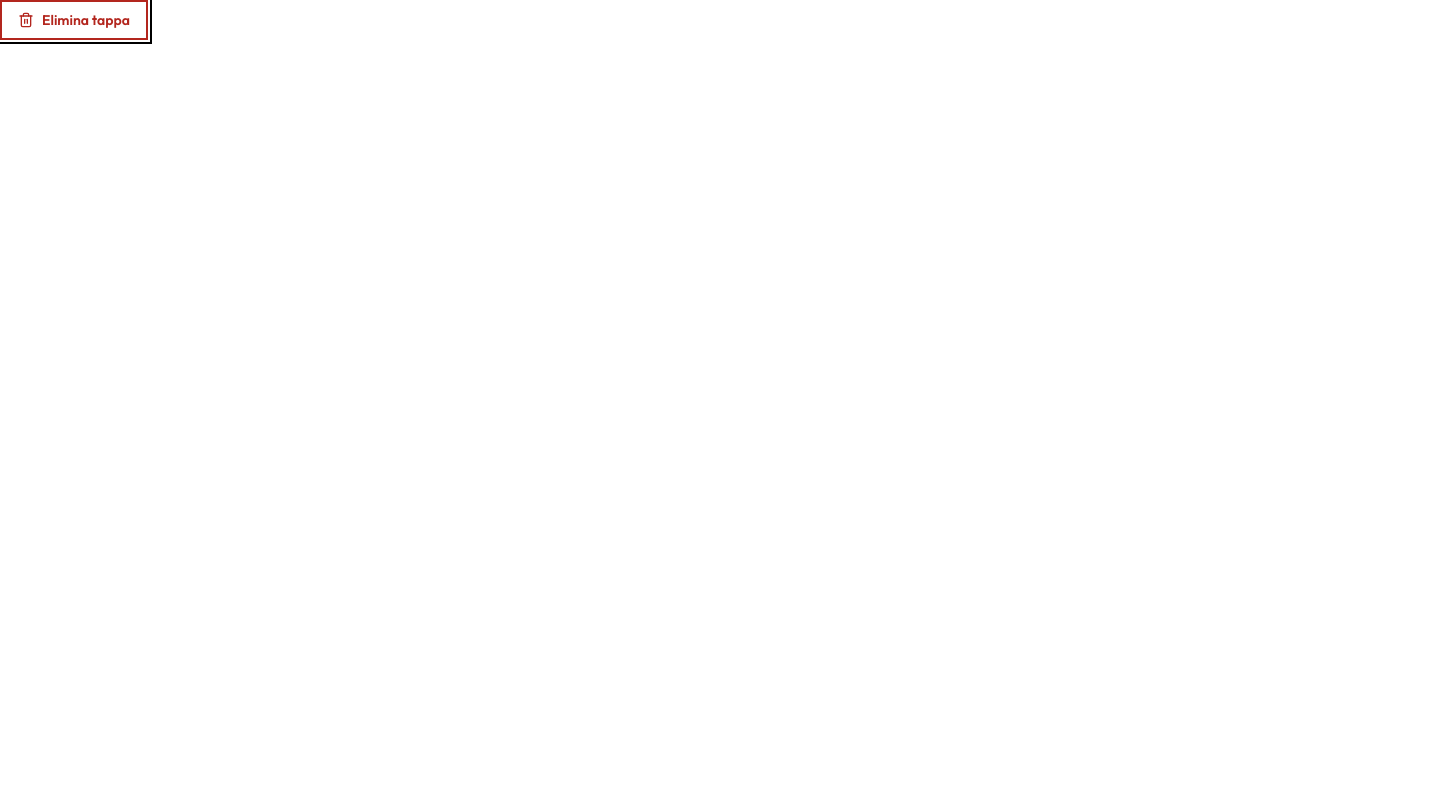
EliminaTappa › errore di rete: la parola resta e l'errore è annunciato
Press Enter
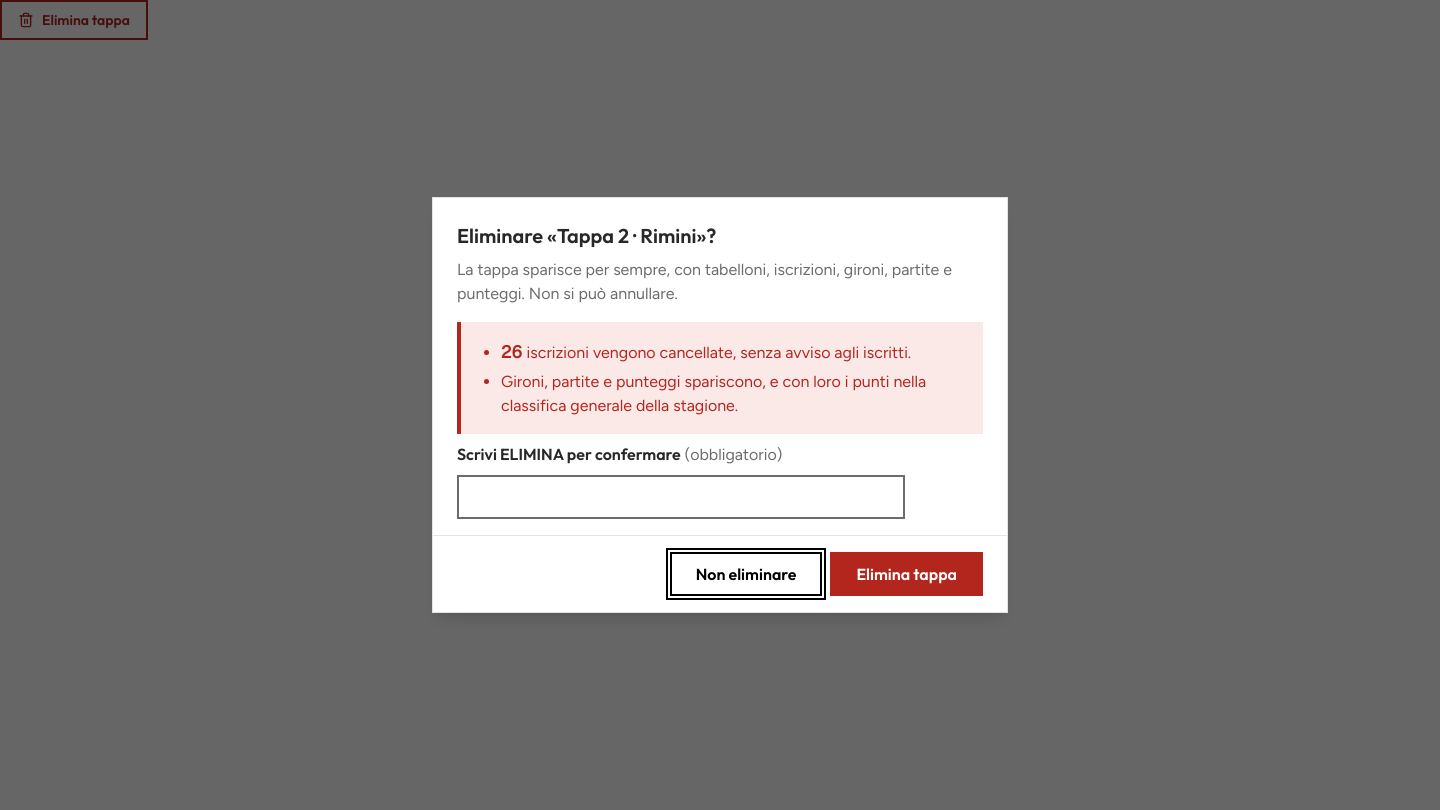
Type "ELIMINA" into the field labelled "Scrivi ELIMINA per confermare (obbligatorio)".
click(681, 497); type("ELIMINA")  # box [457,475,905,519]
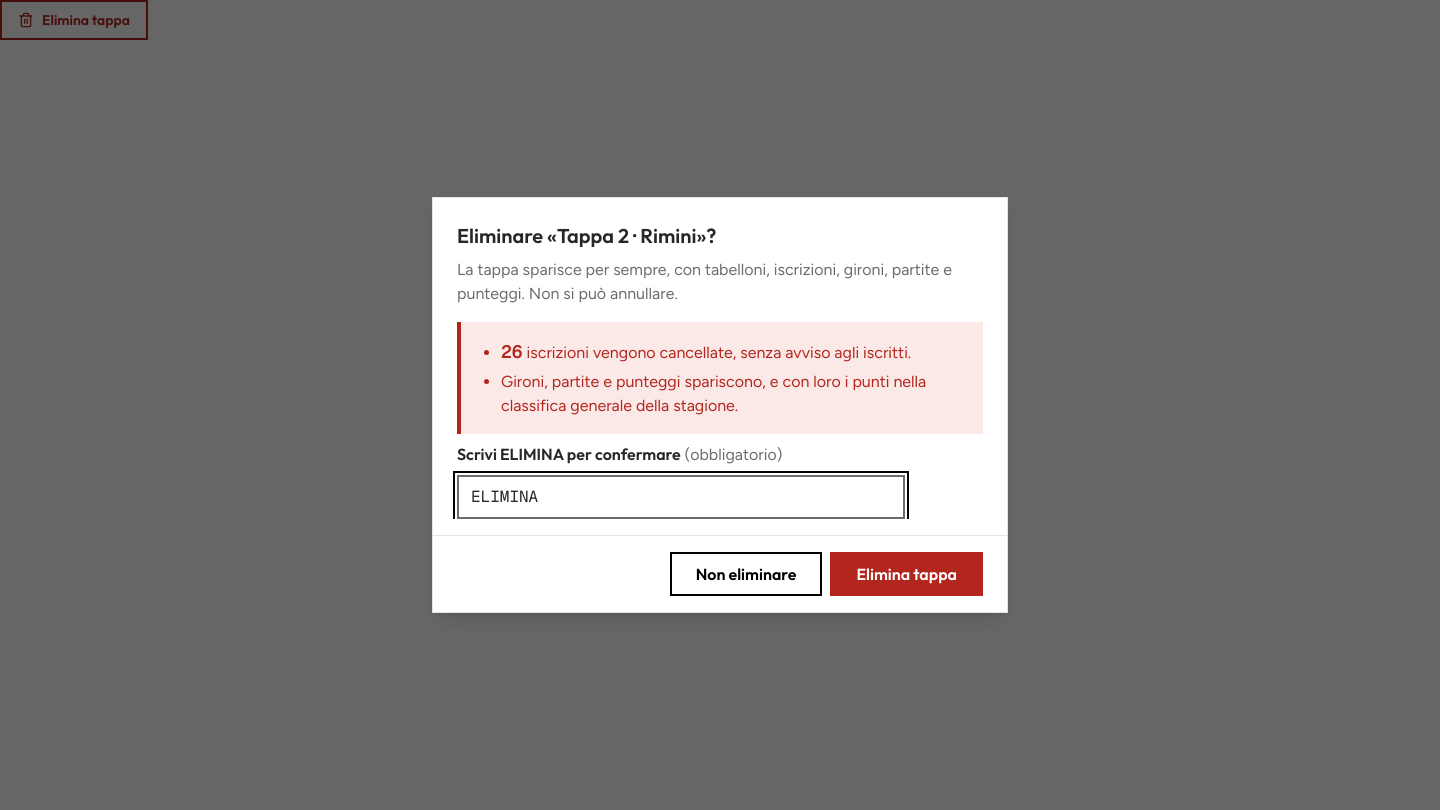
Click the button "Elimina tappa".
click(907, 574)  # box [830,552,983,596]
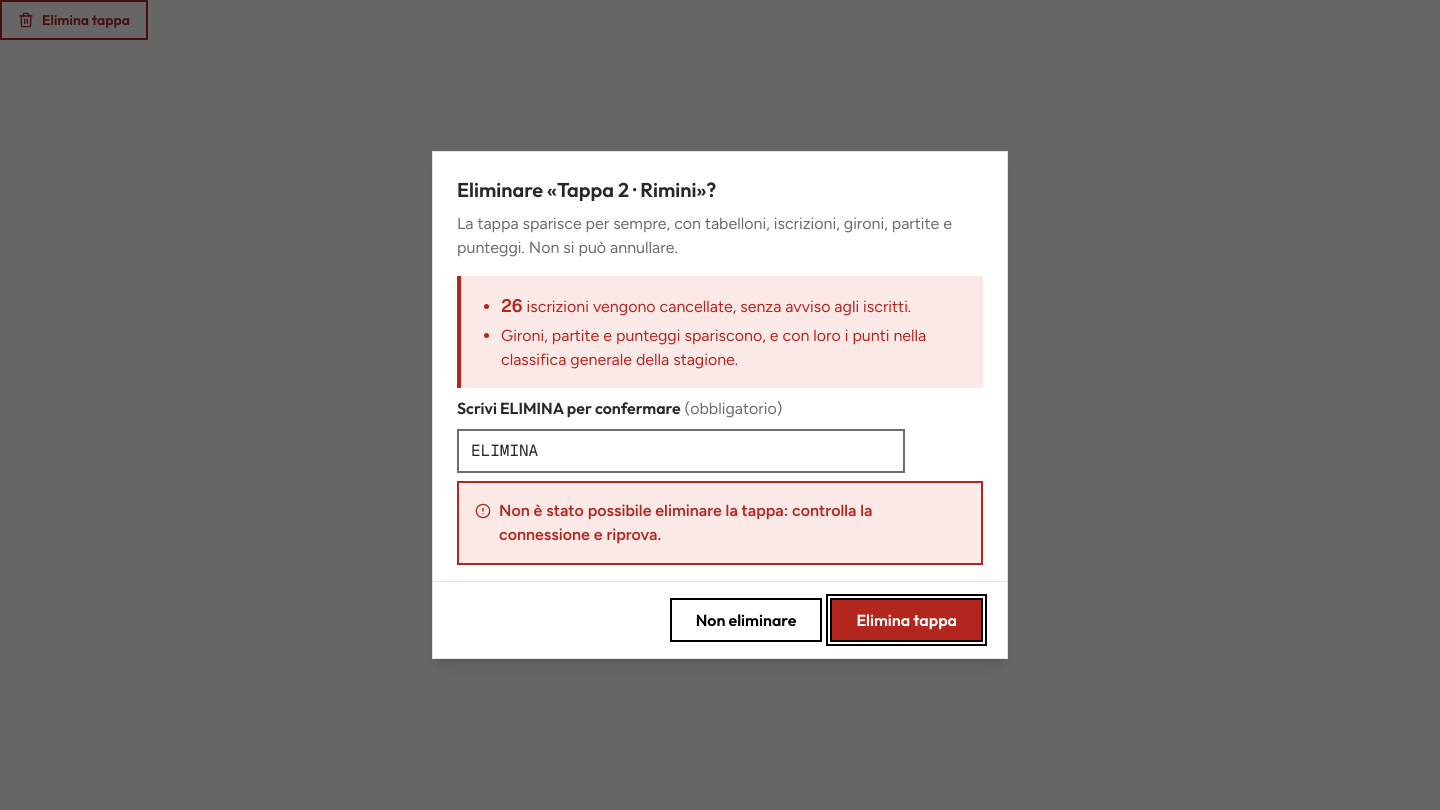
Expected: the message shows "controlla la connessione", [499,501,872,544]
